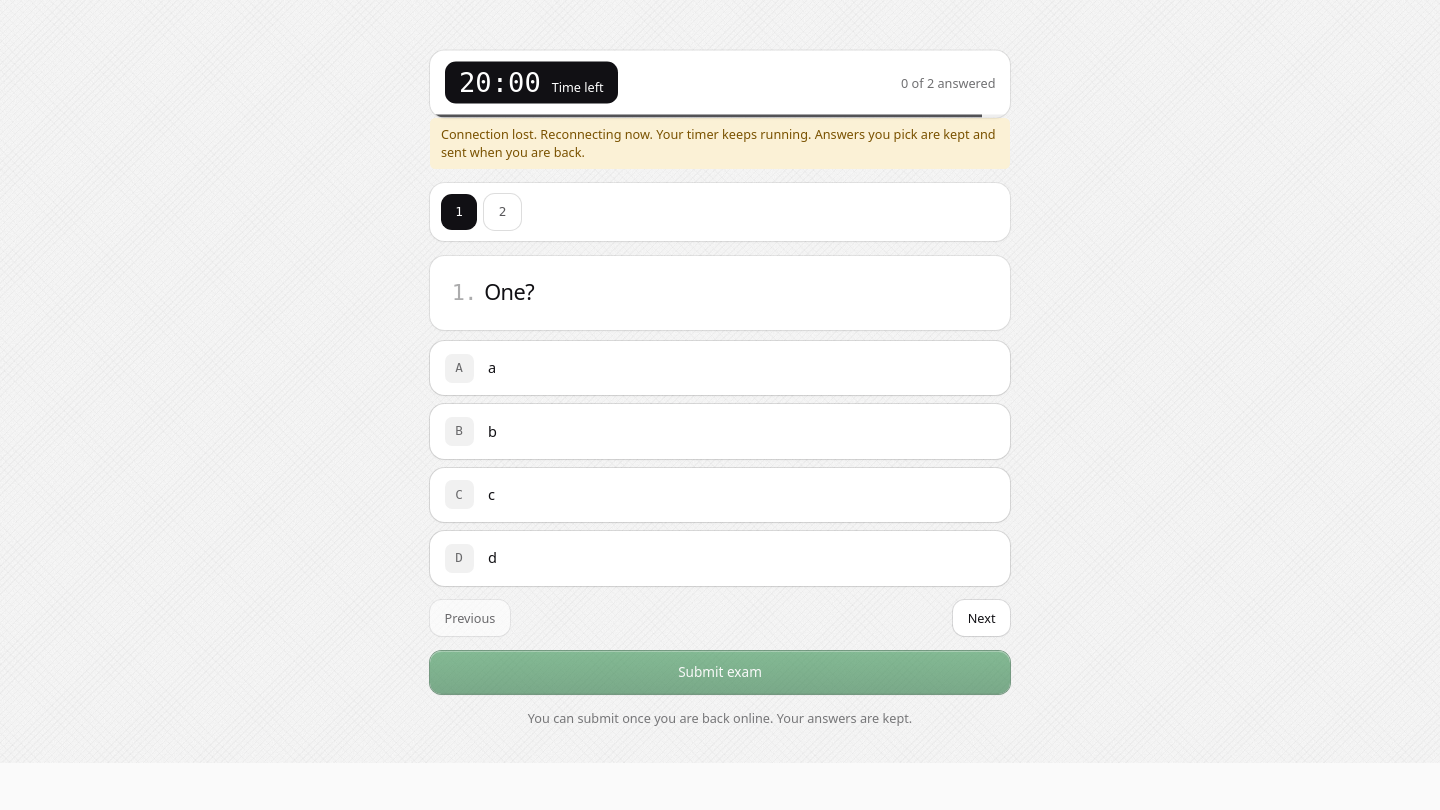
ExamAttemptView answers while offline › keeps an answer picked offline and sends it once the seat is back
expect the message "Reconnecting" is shown: met, box [430,118,1010,169]
Click the radio button labelled "B" at (459, 431), box [430,404,1010,459]
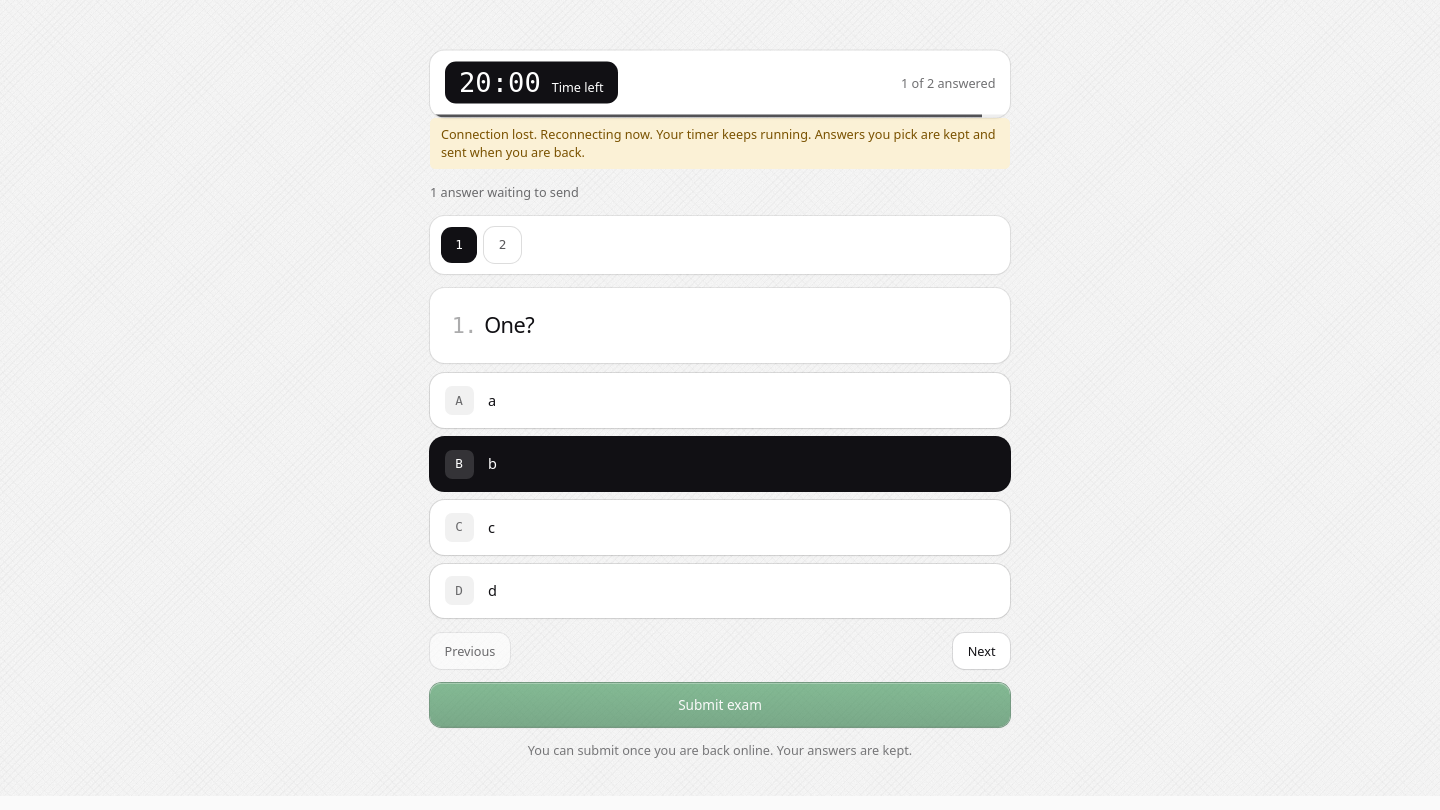
expect the text "1 answer waiting to send" is shown: met, box [430,183,579,201]
